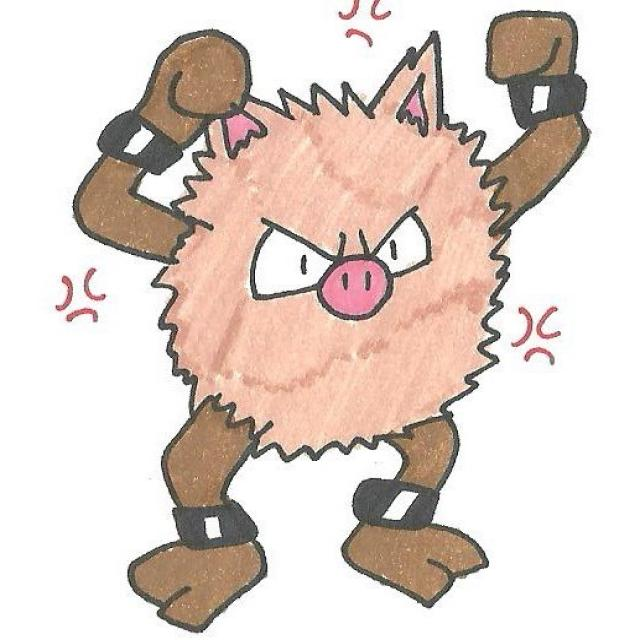Primeape: (116, 34, 552, 594)
